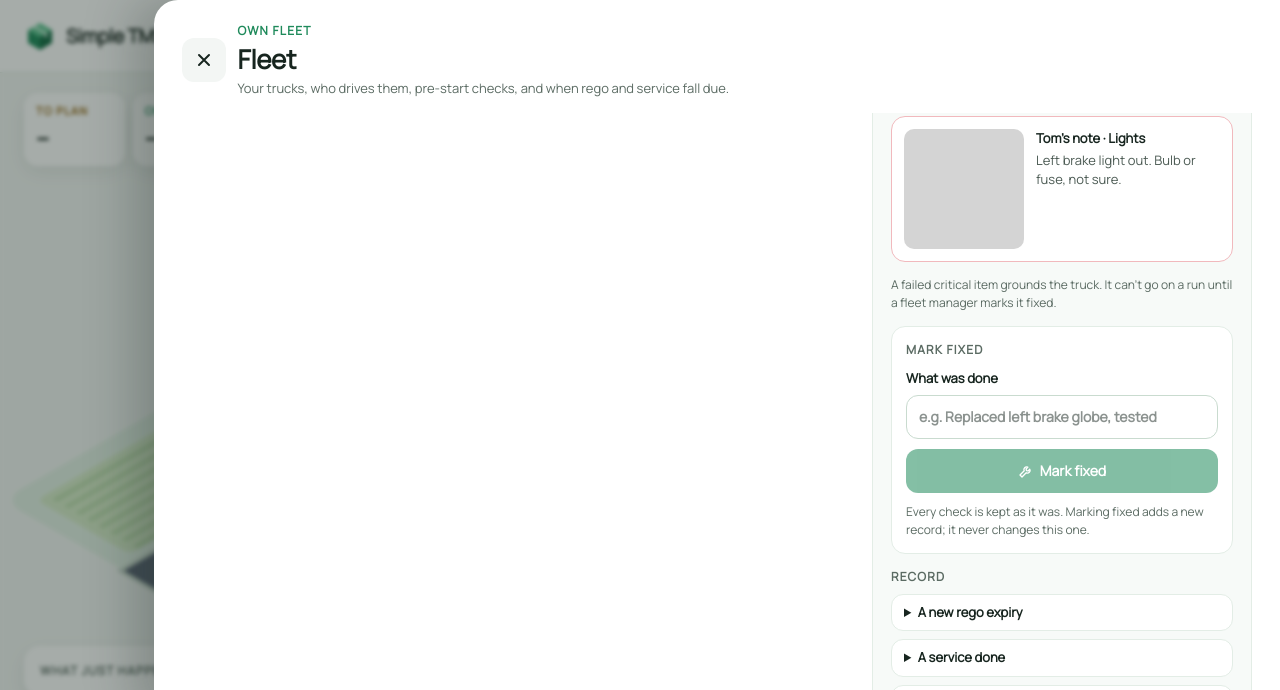
it: Fleet › lets a fleet manager mark it fixed with what was done
(page scrolled)
Expected: the button "Mark fixed" is disabled, [906,448,1218,492]
In the field labelled "What was done": coordinates (1062, 416) [906,394,1218,438], type "Replaced left brake globe, tested"
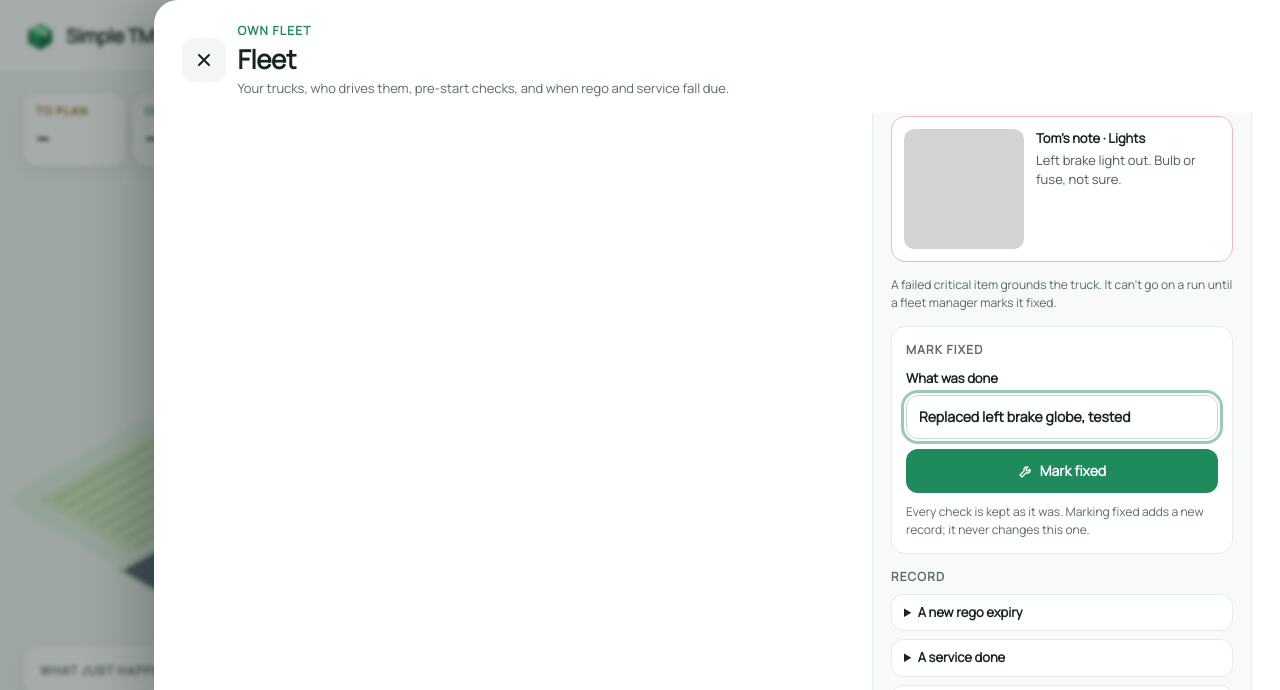
Click the button "Mark fixed": coordinates (1062, 470) [906,448,1218,492]
(page scrolled)
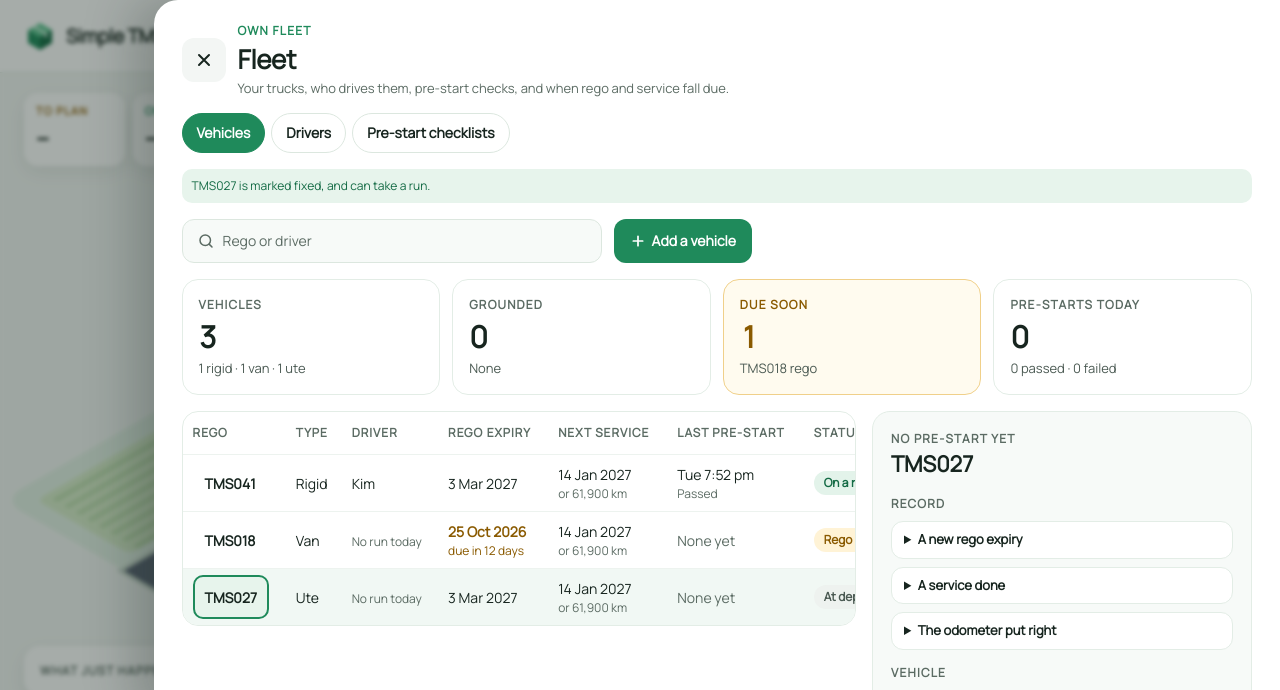
Expected: the text "MARK FIXED" is gone
